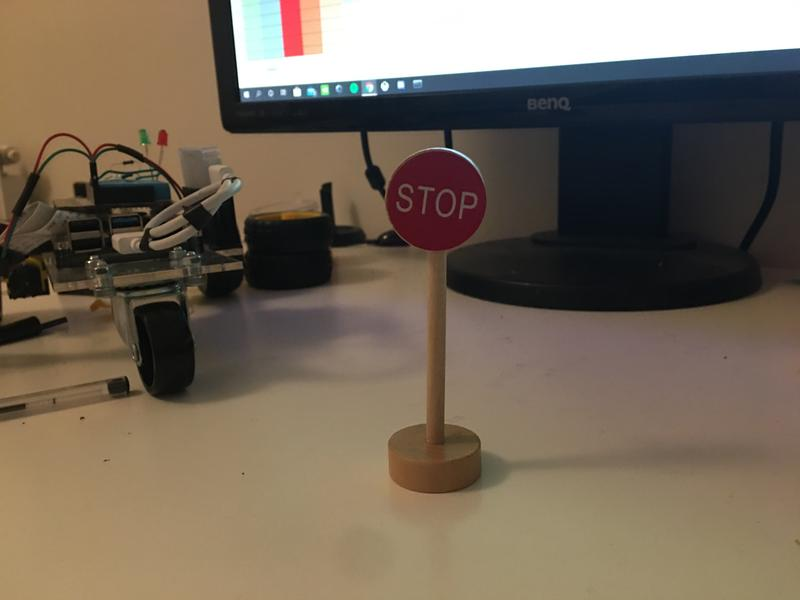Traffic_Sign_Stop: (387, 147, 487, 253)
